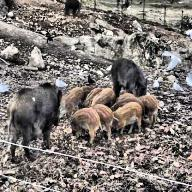boar: (5, 66, 68, 168), (107, 48, 147, 103), (112, 96, 148, 135), (75, 100, 99, 141), (88, 94, 116, 124), (142, 97, 170, 122), (86, 80, 108, 109), (66, 80, 81, 110)
